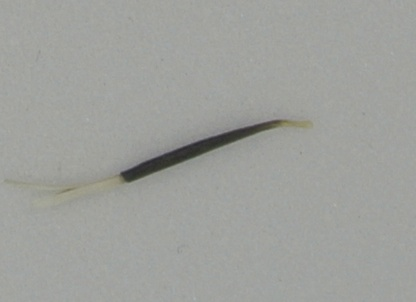เมล็ดดีเรียวยาว: (2, 118, 316, 204)
